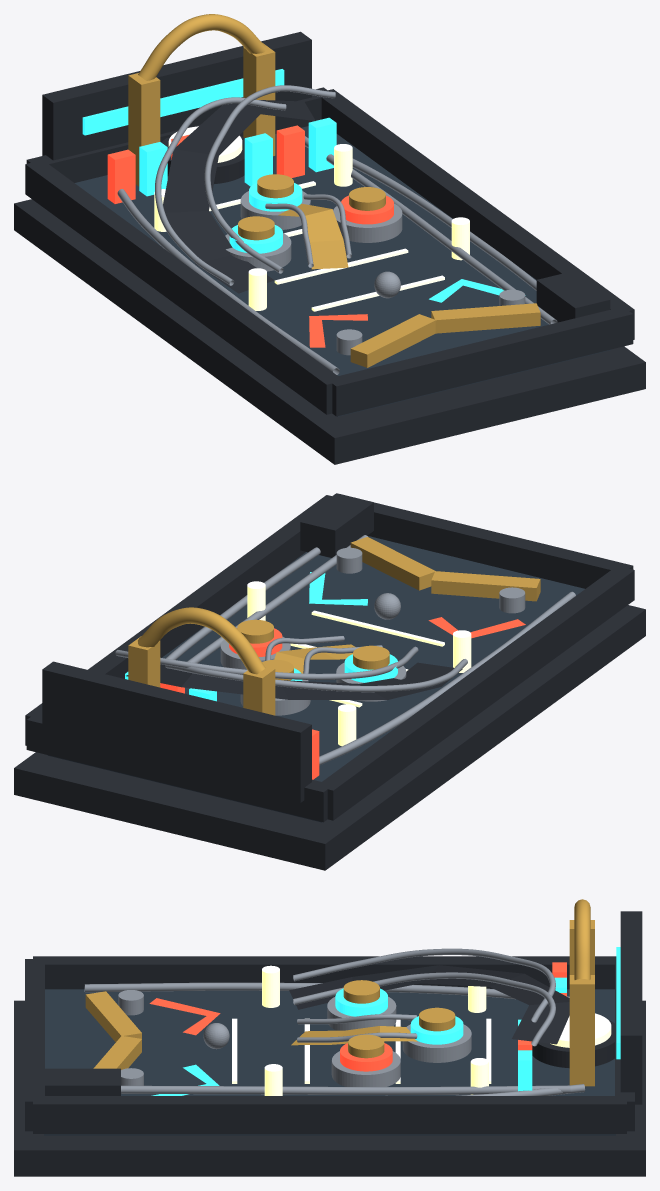
File: infinite-pinball-base-v1.glb
3 renders of one model, top to bottom at view 1: azimuth 30°, elevation 25°; view 2: azimuth 150°, elevation 25°; view 3: azimuth 270°, elevation 25°, orthographic.
Visible parts, largest first — view 1: Cabinet_Base, Playfield, Rail_Left, Rail_Bottom, Back_Crest, Rail_Right, Ramp_Main, Back_Crest_Light, Plunger_Housing, HeroPortal_Arch, Rail_Top, Flipper_Right (+29 smaller); view 2: Cabinet_Base, Playfield, Back_Crest, Rail_Left, Rail_Bottom, Rail_Right, Rail_Top, Ramp_Main, Plunger_Housing, HeroPortal_Arch, Flipper_Left, Flipper_Right (+22 smaller); view 3: Playfield, Cabinet_Base, Rail_Right, Rail_Left, Ramp_Main, Back_Crest, Shooter_Lane_Rail, Rail_Bottom, HeroPortal_Column_R, Guide_Left, Ramp_Main_Rail_L, Plunger_Housing (+30 smaller).
Boxes of the visible parts, x1,y1,x2,y2 form: Cabinet_Base: (14, 199, 645, 464); Playfield: (75, 126, 612, 416); Rail_Left: (25, 160, 337, 414); Rail_Bottom: (326, 306, 633, 416); Back_Crest: (42, 31, 311, 160); Rail_Right: (321, 89, 634, 339); Ramp_Main: (163, 100, 315, 293); Back_Crest_Light: (82, 69, 284, 135); Plunger_Housing: (536, 271, 610, 322); HeroPortal_Arch: (138, 14, 265, 80); Rail_Top: (26, 87, 327, 182); Flipper_Right: (431, 303, 540, 333); Cabinet_Base: (14, 605, 645, 870); Playfield: (47, 535, 584, 822); Back_Crest: (42, 661, 311, 802); Rail_Left: (322, 567, 634, 820); Rail_Bottom: (326, 493, 633, 588); Rail_Right: (25, 495, 331, 745); Rail_Top: (26, 712, 332, 822); Ramp_Main: (126, 662, 462, 699); Plunger_Housing: (300, 494, 373, 557); HeroPortal_Arch: (138, 607, 265, 674); Flipper_Left: (431, 571, 540, 601); Flipper_Right: (350, 537, 435, 590); Playfield: (44, 989, 615, 1135); Cabinet_Base: (14, 1000, 645, 1176); Rail_Right: (33, 1096, 626, 1133); Rail_Left: (33, 956, 616, 989); Ramp_Main: (289, 965, 569, 1044); Back_Crest: (620, 911, 642, 1104); Shooter_Lane_Rail: (121, 1085, 570, 1095); Rail_Bottom: (25, 959, 44, 1131); HeroPortal_Column_R: (569, 975, 594, 1086); Guide_Left: (84, 982, 569, 999); Ramp_Main_Rail_L: (293, 948, 555, 1022); Plunger_Housing: (45, 1068, 120, 1095).
Size of the model in its own units: 3.9 by 2.39 by 6.96.
